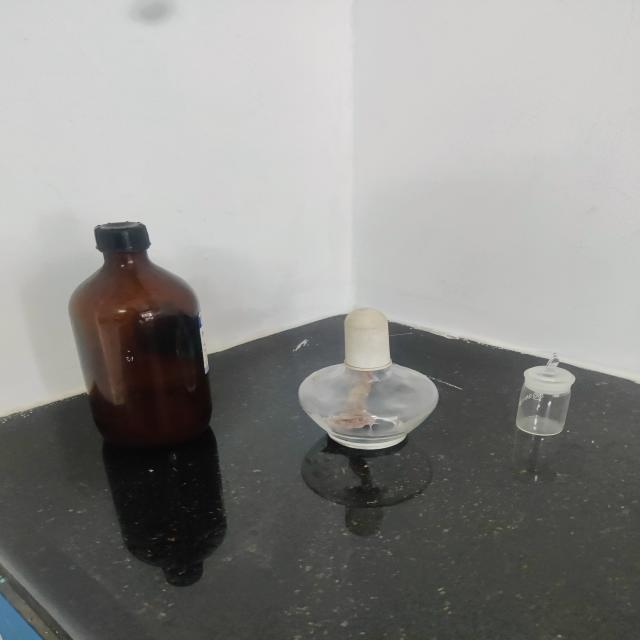Nessler_Reagent_Bottle: (52, 203, 244, 467)
Spirit_Lamp: (284, 285, 454, 485)
Weighing_Bottle: (493, 310, 596, 462)
